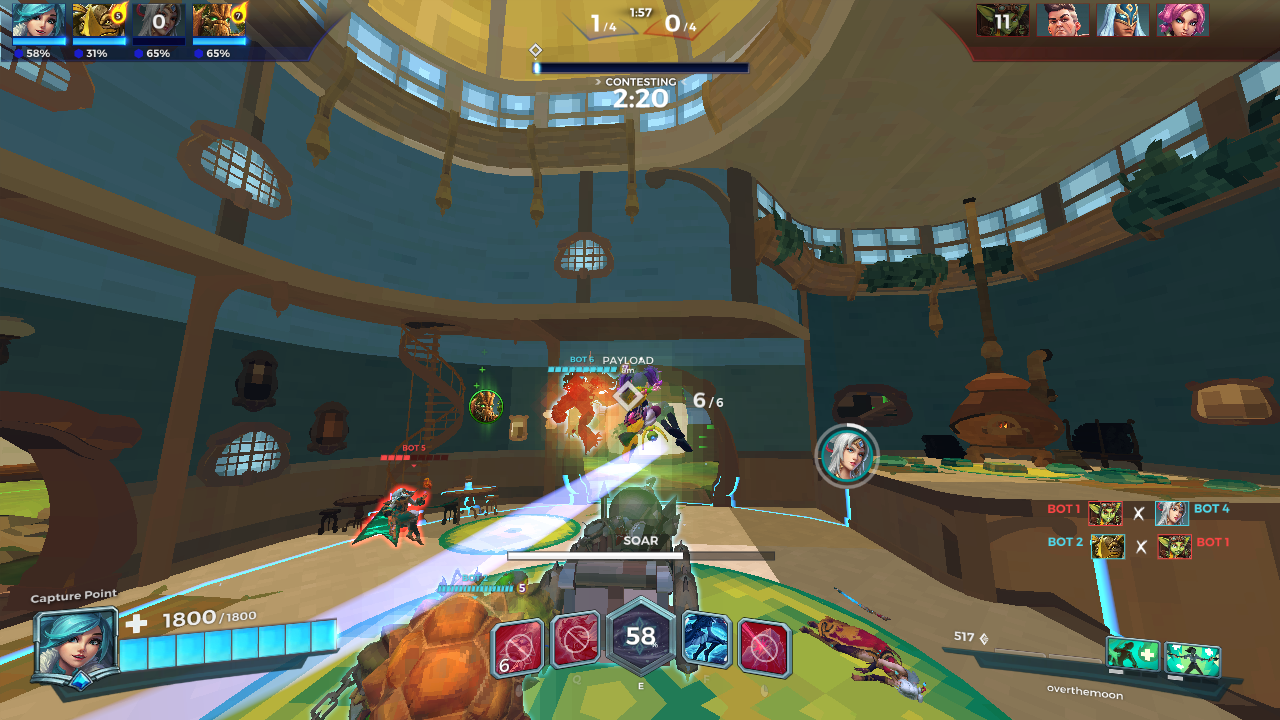model: (354, 478, 442, 548)
